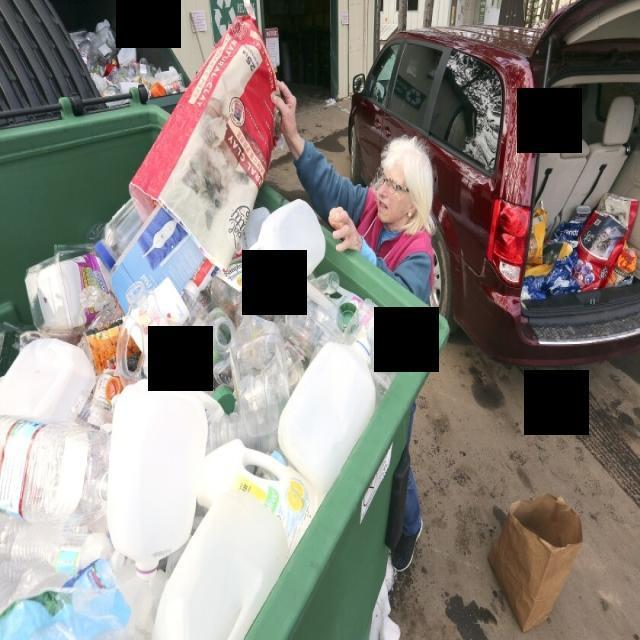Garbage: (0, 139, 416, 640)
Plastic_Container: (152, 491, 288, 638), (279, 345, 375, 498), (201, 441, 318, 552), (0, 339, 95, 422), (249, 201, 326, 295), (25, 253, 110, 337), (344, 298, 410, 389), (275, 279, 342, 359), (102, 199, 142, 260), (154, 278, 190, 325)
Plastic_bottle: (0, 416, 110, 528), (116, 283, 210, 393), (230, 311, 290, 451), (0, 515, 112, 575), (100, 551, 168, 638), (210, 262, 278, 322), (208, 412, 279, 453), (194, 308, 235, 370)
